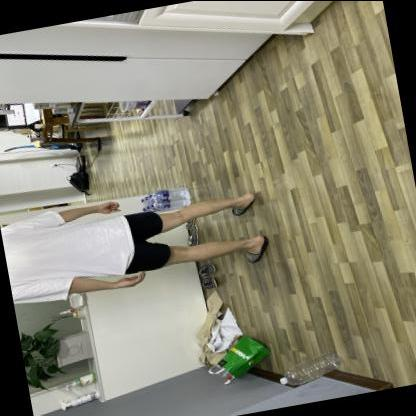no_safety-shoe: (221, 179, 274, 225), (236, 226, 275, 273)
